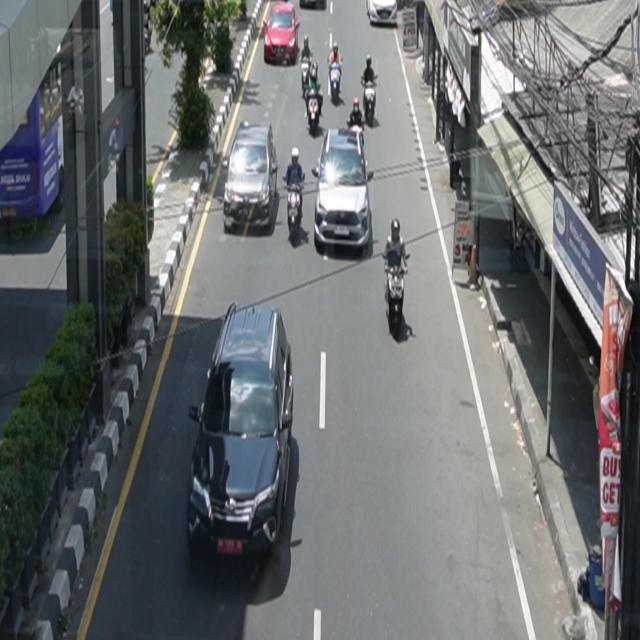car: (187, 301, 295, 563), (313, 126, 373, 255), (224, 121, 280, 235), (263, 2, 301, 66), (367, 1, 398, 26)
